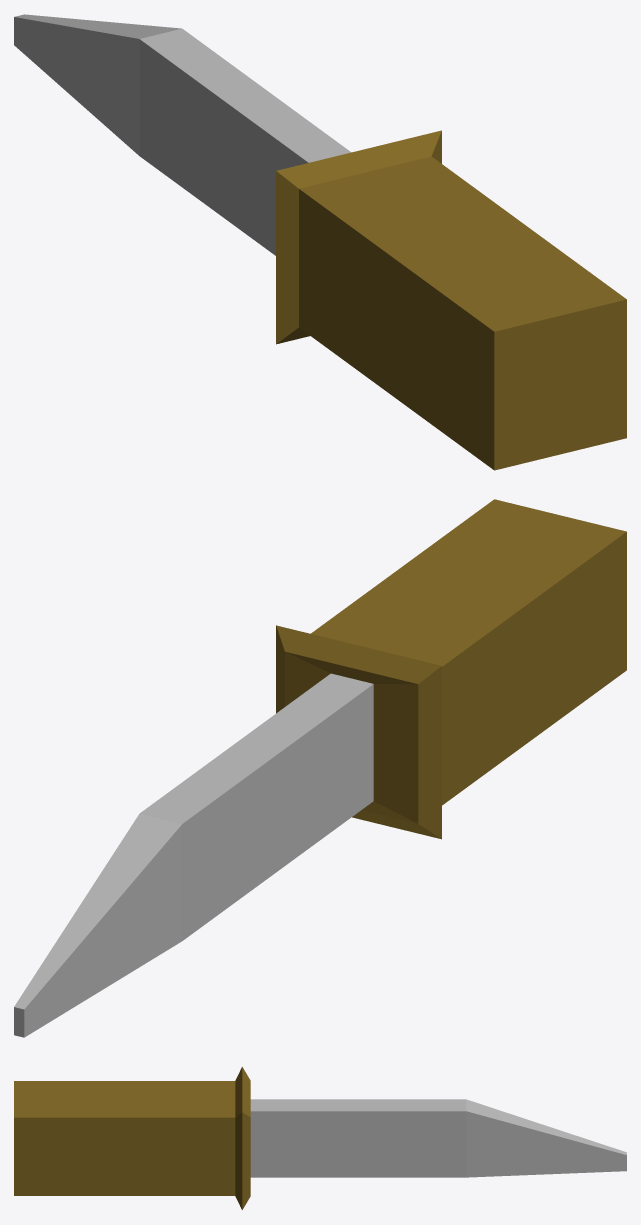
File: knifeModel.fbx
3 renders of one model, top to bottom at view 1: azimuth 30°, elevation 25°; view 2: azimuth 150°, elevation 25°; view 3: azimuth 270°, elevation 25°, orthographic. The views are drawn at different scales.
Visible parts, largest first — view 1: Cube; view 2: Cube; view 3: Cube.
Boxes of the visible parts, bbox=[...] form: Cube: bbox=[14, 14, 626, 470]; Cube: bbox=[14, 499, 626, 1037]; Cube: bbox=[14, 1067, 626, 1209].
Bounding box in the file's own units: 49.08 × 49.08 × 278.
